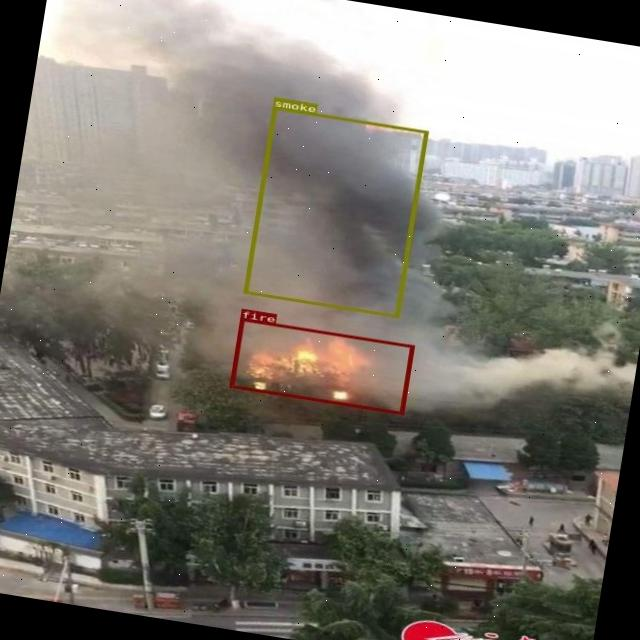fire: (230, 318, 413, 414)
smoke: (243, 106, 428, 317)
